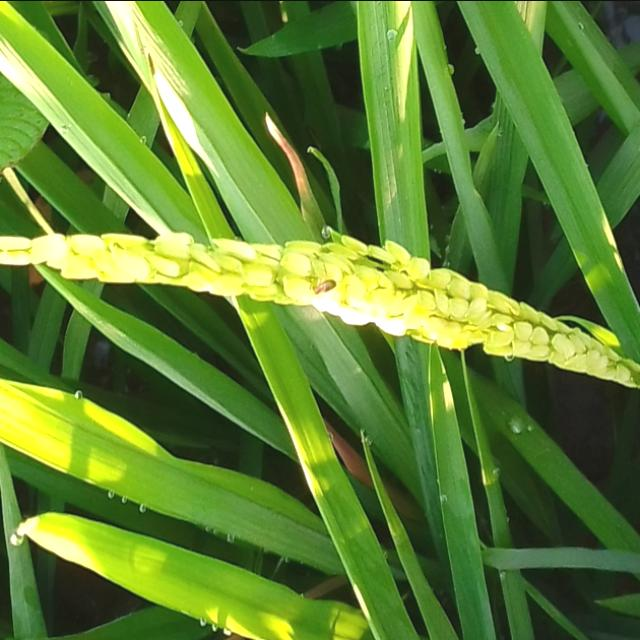Wereng: (304, 269, 347, 298)
